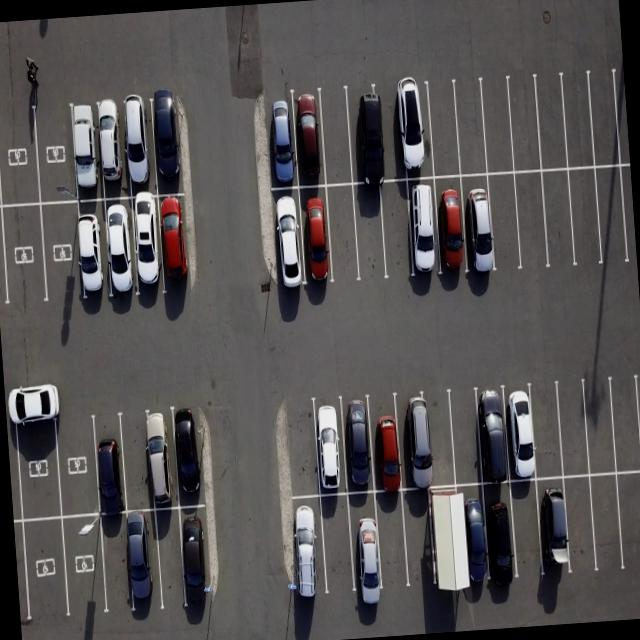car: (59, 511, 110, 616), (342, 82, 390, 184), (479, 482, 523, 591), (154, 192, 200, 295), (178, 504, 220, 614), (287, 494, 329, 604), (448, 486, 490, 596), (296, 184, 339, 289), (125, 510, 167, 616), (345, 491, 385, 602), (69, 197, 110, 305), (458, 170, 499, 276), (102, 195, 143, 301), (392, 84, 436, 182), (127, 194, 167, 300), (535, 474, 576, 576), (88, 410, 128, 514), (428, 174, 468, 278), (472, 385, 514, 483), (364, 394, 406, 492), (169, 406, 210, 506), (396, 392, 438, 489), (498, 384, 539, 482), (309, 398, 349, 498), (406, 176, 444, 280), (292, 88, 331, 189), (338, 394, 378, 492), (272, 185, 308, 292), (140, 408, 178, 509), (150, 96, 188, 196), (118, 97, 156, 197), (67, 102, 102, 202), (266, 91, 301, 190), (97, 97, 131, 195)
free: (11, 406, 61, 522), (54, 406, 104, 516), (18, 517, 68, 626), (38, 198, 86, 308), (0, 201, 45, 311), (117, 409, 164, 512), (32, 98, 79, 201), (318, 492, 360, 604), (504, 476, 547, 580), (371, 491, 412, 596), (558, 476, 600, 578), (583, 474, 625, 576), (374, 179, 416, 280), (564, 164, 604, 269), (538, 168, 578, 272), (484, 170, 524, 274), (95, 512, 135, 616), (512, 168, 552, 271), (596, 162, 634, 270), (0, 97, 38, 205), (318, 84, 358, 185), (578, 378, 618, 479), (150, 508, 188, 614), (442, 388, 483, 486), (396, 487, 435, 590), (553, 378, 593, 478), (426, 490, 462, 601), (324, 182, 363, 284), (280, 401, 321, 498), (528, 382, 568, 481), (348, 182, 388, 281), (422, 82, 461, 179), (452, 78, 491, 175), (507, 76, 546, 172), (558, 70, 596, 167), (532, 74, 570, 170), (476, 78, 514, 174), (588, 66, 624, 165), (422, 396, 458, 492), (375, 85, 408, 185), (608, 373, 640, 474), (615, 471, 640, 574)
